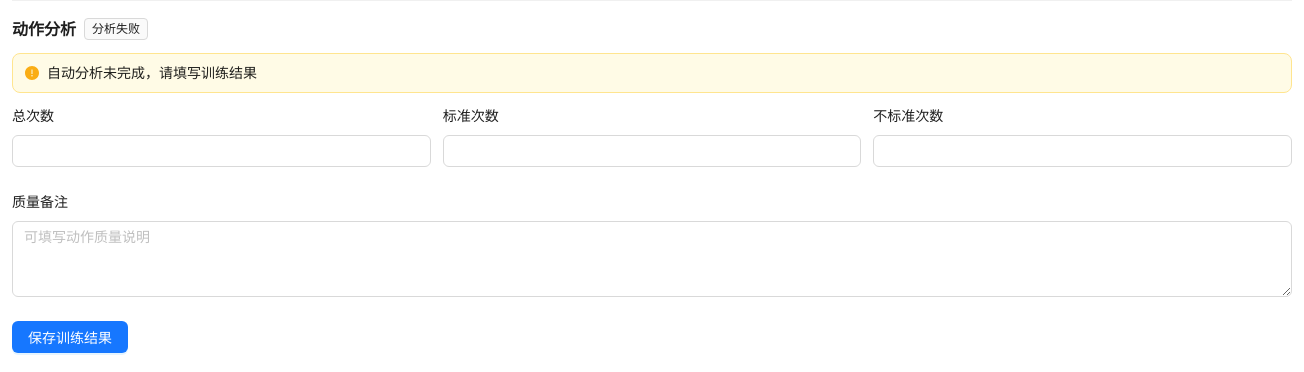
Test: MotionAnalysisPanel › 在前端明确校验总次数守恒
Type "90" into the field labelled "总次数" at coordinates (221, 151), box [12,135,431,167]
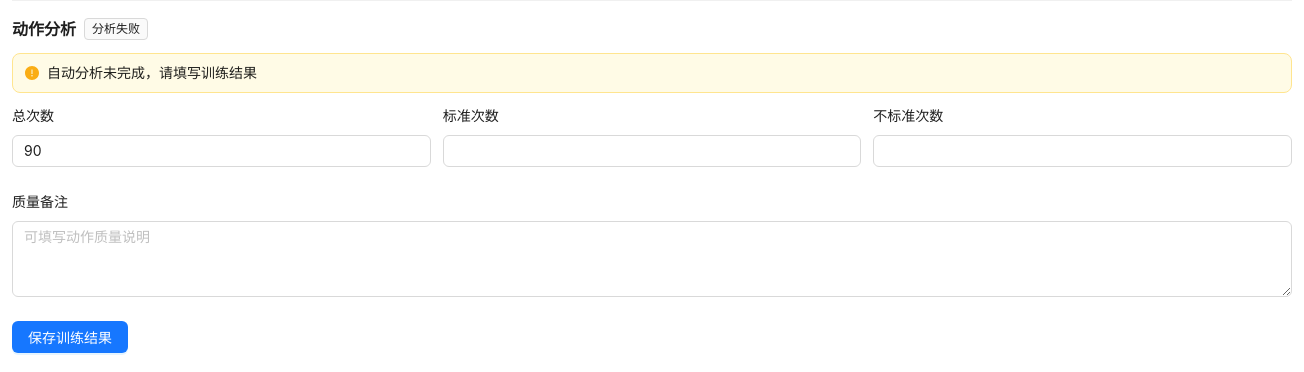
Type "70" into the field labelled "标准次数" at coordinates (652, 151), box [443,135,861,167]
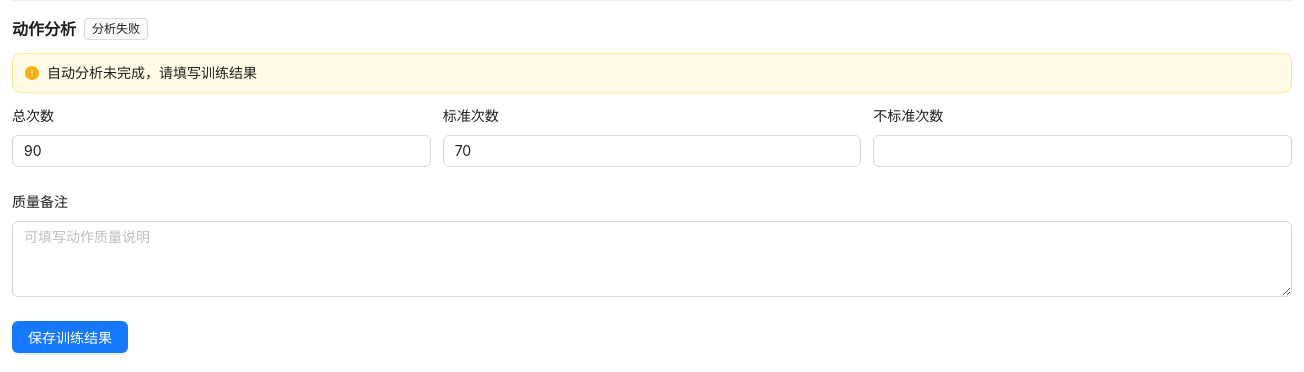
Type "10" into the field labelled "不标准次数" at coordinates (1083, 151), box [873,135,1292,167]
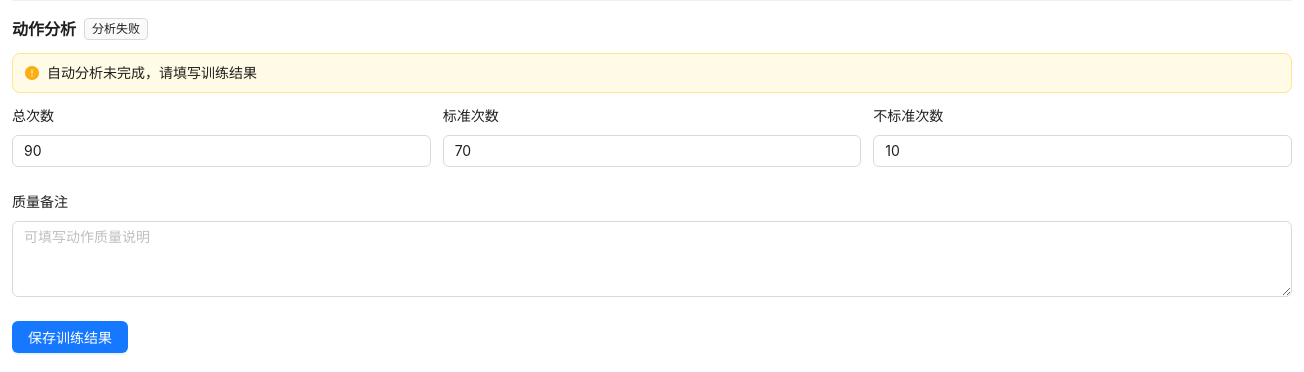
Click the button "保存训练结果" at coordinates (70, 337), box [12,321,128,353]
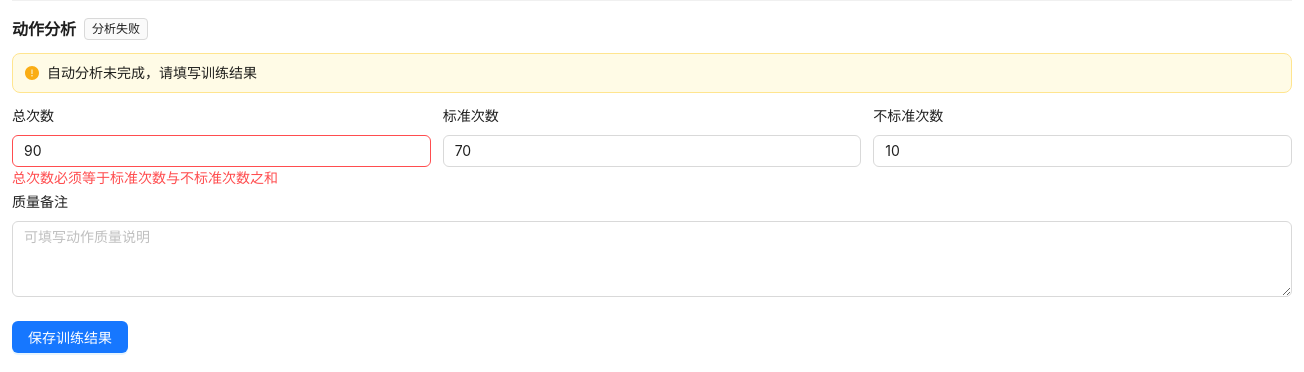
Check: the text "总次数必须等于标准次数与不标准次数之和" is shown, box [12,169,278,186]
